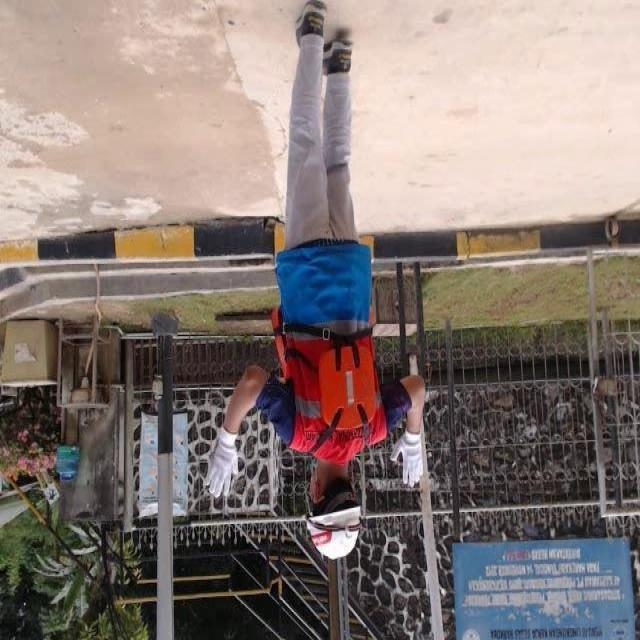helmet: (299, 510, 372, 564)
jacket: (268, 302, 398, 460)
